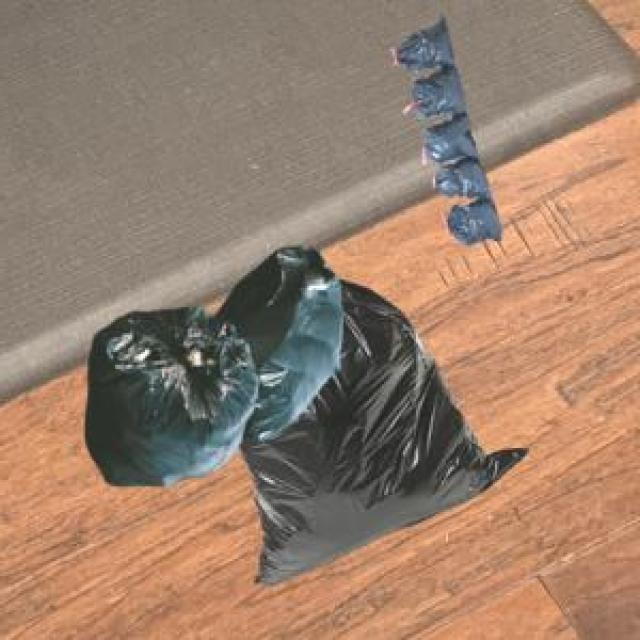Trashbag: (82, 312, 246, 486), (236, 248, 347, 446), (397, 20, 457, 74), (449, 200, 506, 248), (424, 118, 480, 164), (417, 70, 468, 120), (443, 161, 492, 203)
